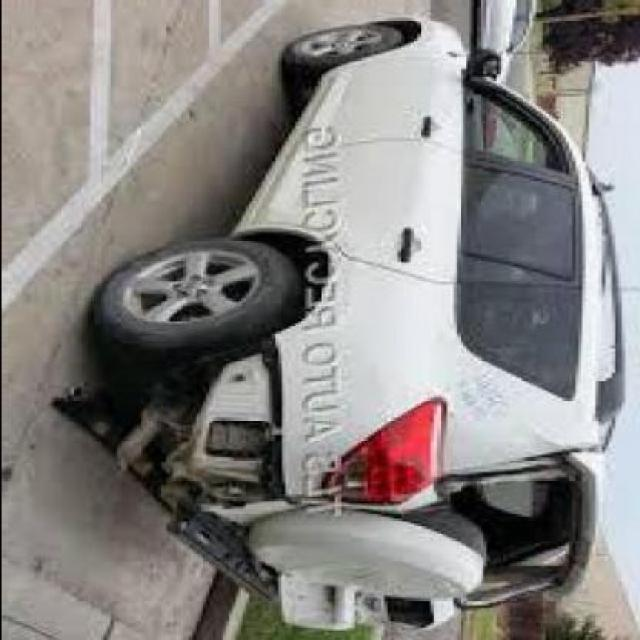damage: (76, 341, 588, 628)
